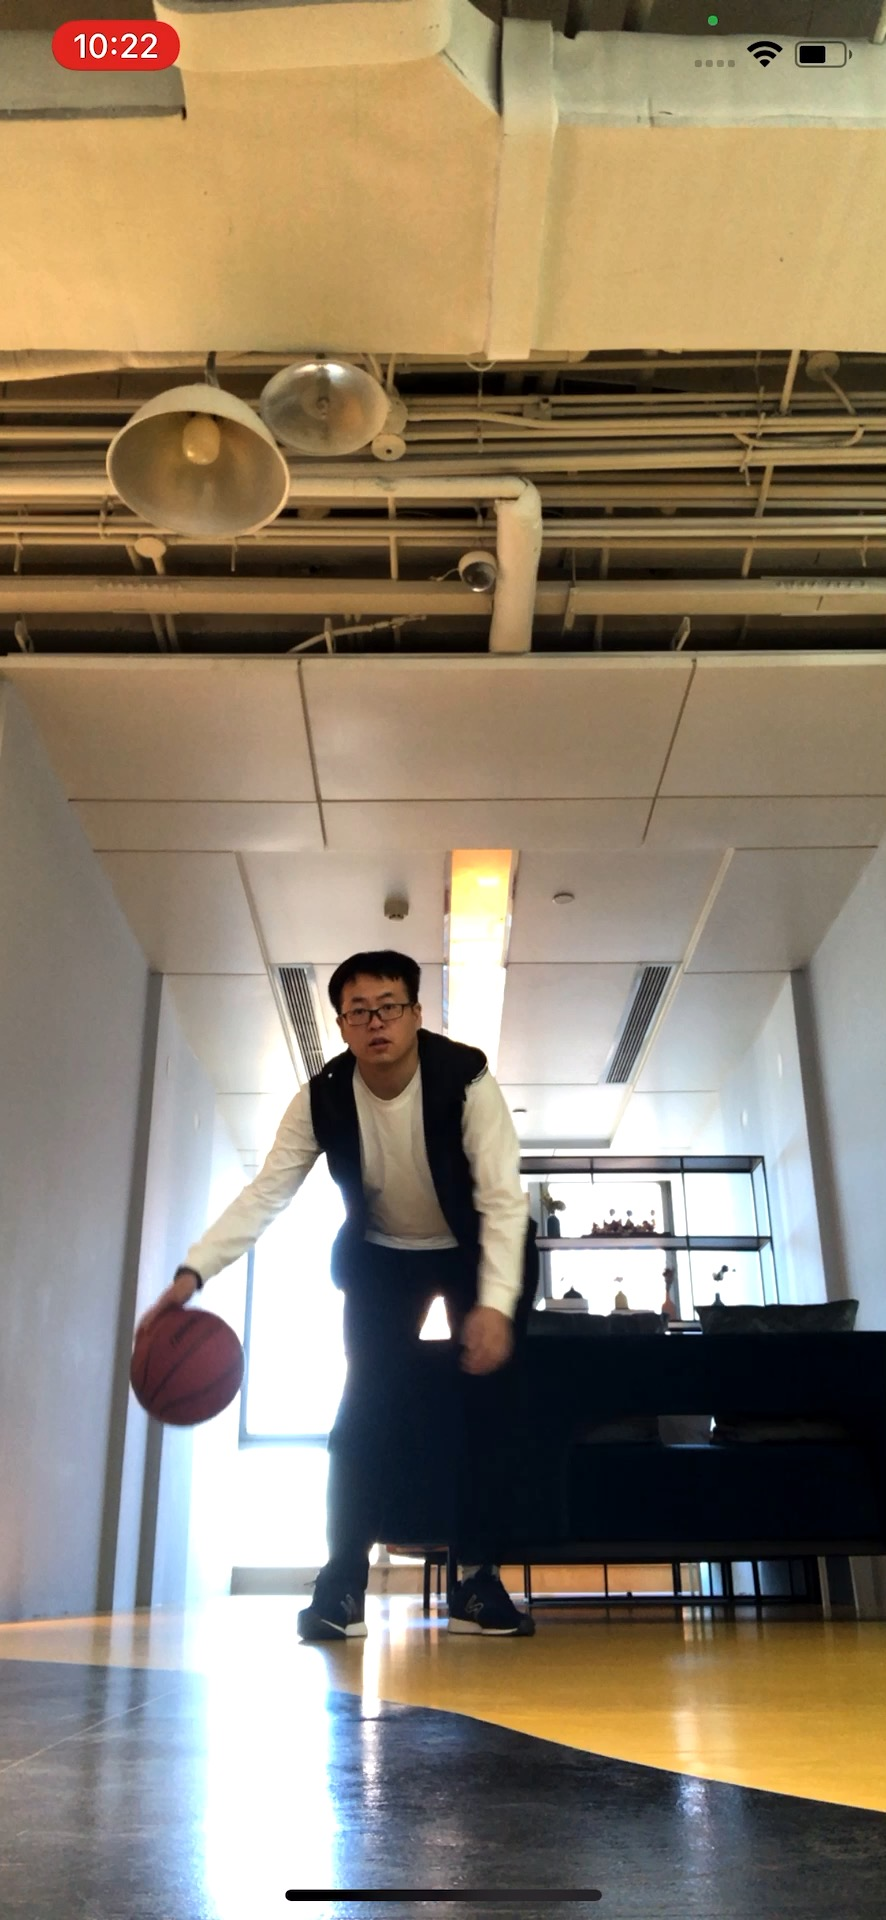ball: (131, 1302, 244, 1425)
